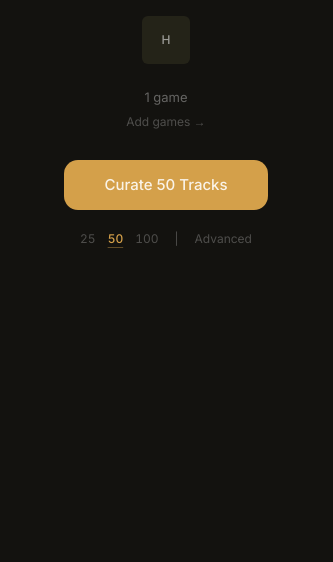
Test case: Launchpad › when library has games › should revert the Custom input to the current value on Escape
Click the button "Advanced": (223, 239) [194,230,252,248]
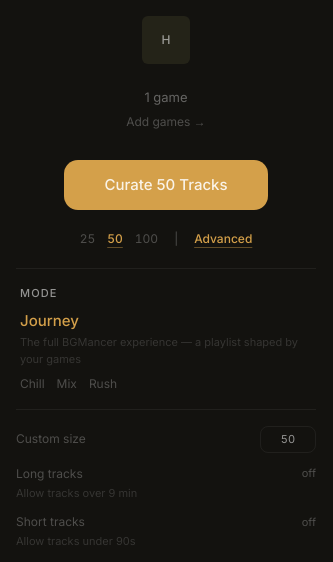
Replace the text in the number field named "custom playlist size" with "9999": (288, 439) [260,426,316,452]
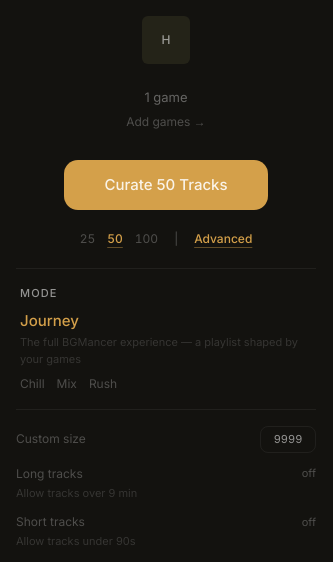
Press Escape in the number field named "custom playlist size", box [260,426,316,452]
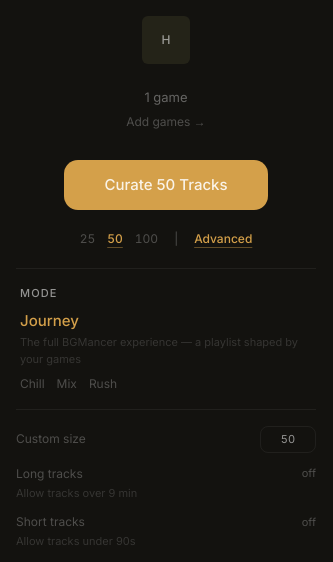
Check: the number field named "custom playlist size" holds "50", box [260,426,316,452]
